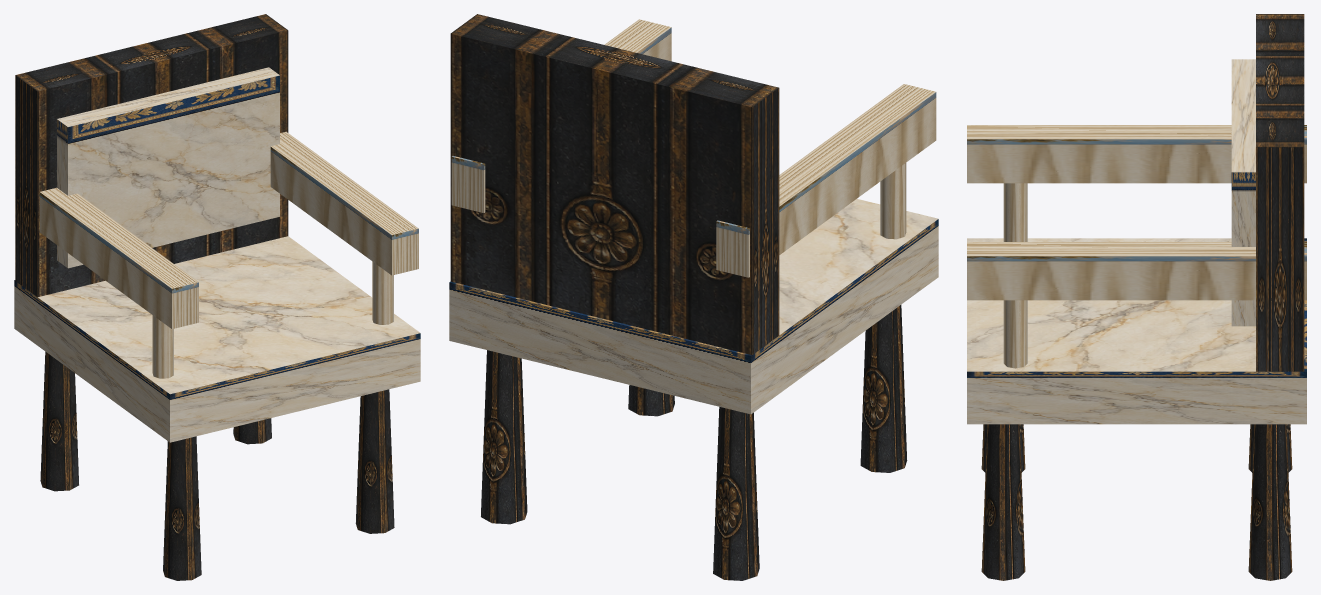
File: theater-seat.gltf
3 renders of one model, left to right at view 1: azimuth 30°, elevation 25°; view 2: azimuth 150°, elevation 25°; view 3: azimuth 270°, elevation 25°, orthographic. The views are drawn at different scales.
Parts seen in each view (by area): view 1: kit:0:furniture:blue:, kit:0:furniture:mahogany:, kit:0:furniture:gold:; view 2: kit:0:furniture:mahogany:, kit:0:furniture:blue:, kit:0:furniture:gold:; view 3: kit:0:furniture:blue:, kit:0:furniture:gold:, kit:0:furniture:mahogany:.
Part boxes in pixels (x1=…): kit:0:furniture:blue:: x1=14, y1=67, x2=420, y2=442; kit:0:furniture:mahogany:: x1=15, y1=14, x2=394, y2=580; kit:0:furniture:gold:: x1=39, y1=131, x2=418, y2=378; kit:0:furniture:mahogany:: x1=450, y1=14, x2=907, y2=580; kit:0:furniture:blue:: x1=449, y1=199, x2=938, y2=414; kit:0:furniture:gold:: x1=451, y1=19, x2=936, y2=277; kit:0:furniture:blue:: x1=967, y1=59, x2=1306, y2=424; kit:0:furniture:gold:: x1=967, y1=125, x2=1306, y2=368; kit:0:furniture:mahogany:: x1=981, y1=14, x2=1304, y2=580.
Size of the model in its own units: 0.65 by 1 by 0.7.
3 materials, 3 textured.
